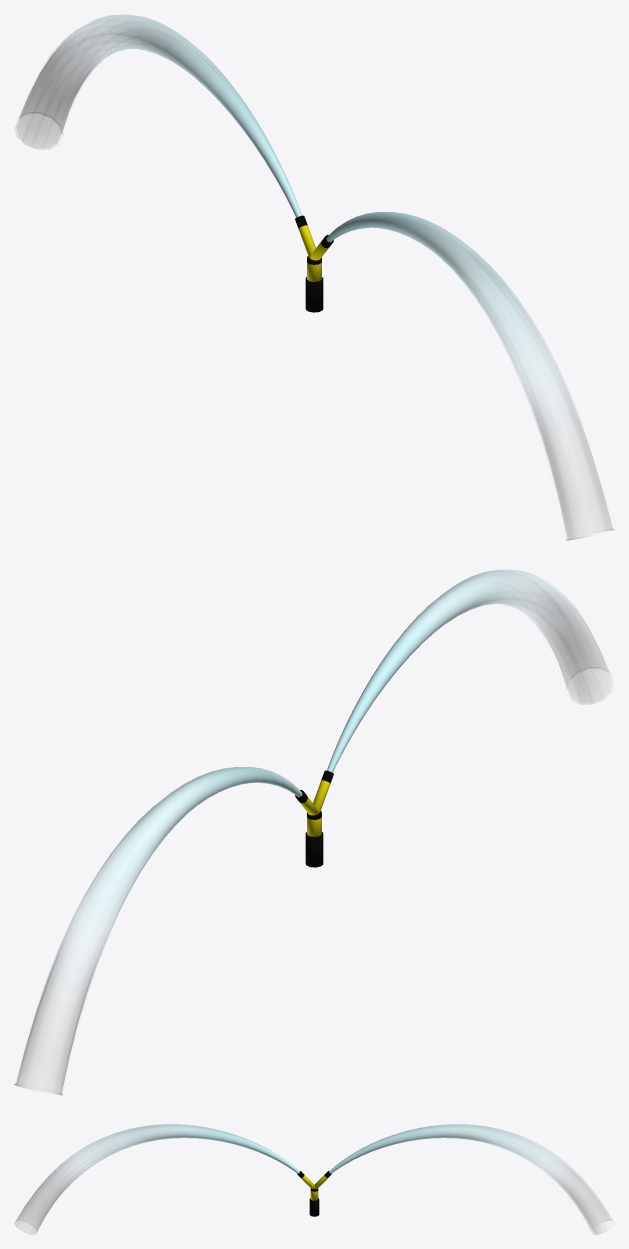
Rendered from sprinkler.glb.
3 renders of one model, top to bottom at view 1: azimuth 30°, elevation 25°; view 2: azimuth 150°, elevation 25°; view 3: azimuth 270°, elevation 25°, orthographic. The views are drawn at different scales.
Visible parts, largest first — view 1: spinner, base; view 2: spinner, base; view 3: spinner, base.
Boxes of the visible parts, x1=… form: spinner: x1=14, y1=14, x2=614, y2=540; base: x1=305, y1=256, x2=323, y2=312; spinner: x1=14, y1=569, x2=614, y2=1095; base: x1=305, y1=811, x2=323, y2=867; spinner: x1=14, y1=1124, x2=614, y2=1234; base: x1=309, y1=1188, x2=319, y2=1216.
Bounding box in the file's own units: 1.23 × 5.56 × 28.11.
4 materials, 2 textured.
